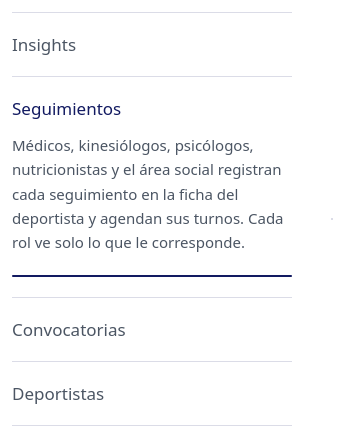
Test: AcordeonFuncionalidades — modo acordeón (lg+) › click en Convocatorias la abre, cambia la demo y el auto-avance sigue encendido
Click the button "Convocatorias" at (69, 329), box [12,298,292,361]
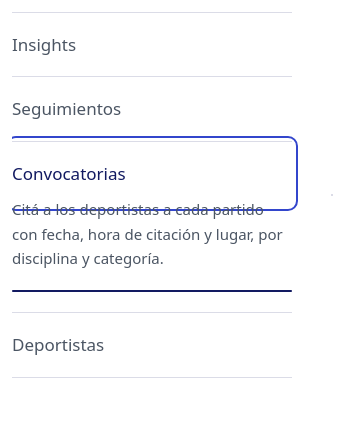
Expected: the button "Seguimientos" is collapsed, [12,77,292,141]
Expected: the button "Convocatorias" is expanded, [12,142,292,205]
